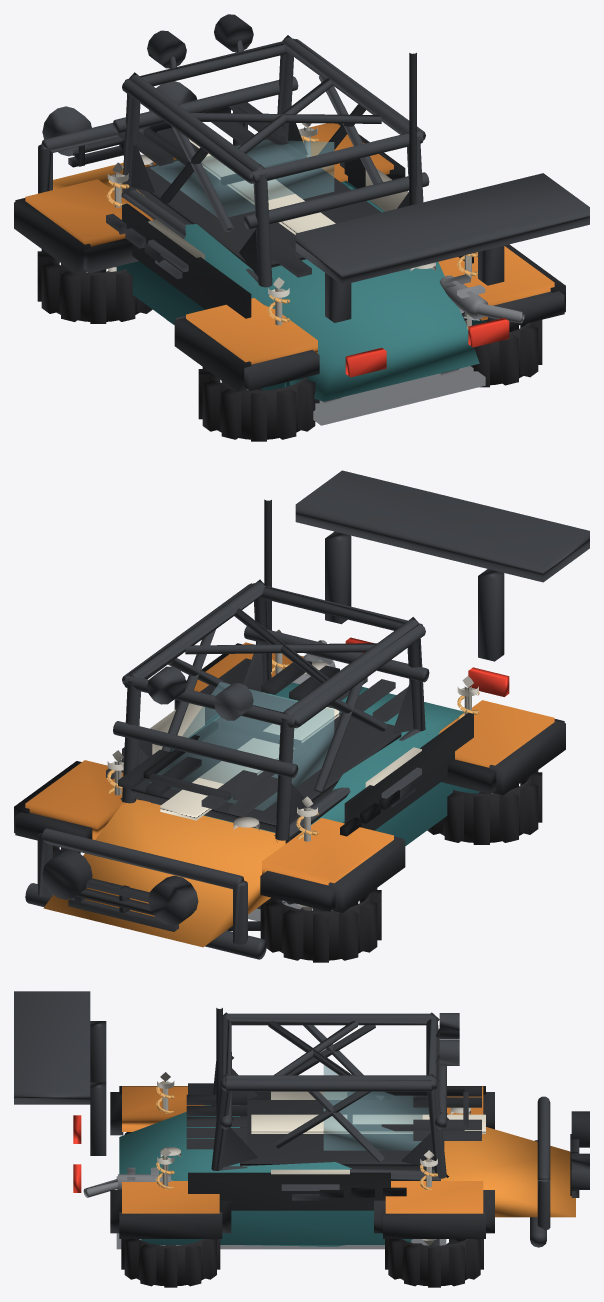
Rendered from rc_buggy.glb.
The picture shows the model from 3 angles, top to bottom: view 1: azimuth 30°, elevation 25°; view 2: azimuth 150°, elevation 25°; view 3: azimuth 270°, elevation 25°; orthographic projection. The views are drawn at different scales.
Visible parts, largest first — view 1: body, wing_panel, wheel_mesh (×3), fender_flares, fender_lips, body_vents, cage_top, top_deck, cage_left, canopy, roll_cage_detail, cage_right (+16 smaller); view 2: wing_panel, nose, body_vents, fender_flares, wheel_mesh (×2), fender_lips, cage_top, top_deck, roll_cage_detail, canopy, cage_left, cage_right (+14 smaller); view 3: body_vents, wing_panel, fender_flares, wheel_mesh (×2), fender_lips, nose, top_deck, side_panel_right, cage_top, cage_right, body, canopy (+15 smaller).
Boxes of the visible parts, x1,y1,x2,y2 form: body: [167, 186, 479, 401]; wing_panel: [295, 173, 589, 284]; wheel_mesh (×3): [37, 249, 542, 441]; fender_flares: [25, 123, 554, 364]; fender_lips: [14, 123, 565, 391]; body_vents: [106, 102, 473, 318]; cage_top: [122, 38, 425, 184]; top_deck: [135, 138, 381, 268]; cage_left: [122, 74, 272, 287]; canopy: [150, 140, 334, 217]; roll_cage_detail: [42, 14, 418, 290]; cage_right: [277, 37, 423, 204]; wing_panel: [295, 470, 589, 582]; nose: [43, 799, 285, 947]; body_vents: [106, 658, 473, 836]; fender_flares: [25, 642, 554, 885]; wheel_mesh (×2): [260, 770, 542, 962]; fender_lips: [14, 643, 565, 912]; cage_top: [122, 583, 425, 728]; top_deck: [131, 691, 401, 832]; roll_cage_detail: [42, 579, 427, 925]; canopy: [150, 682, 334, 810]; cage_left: [275, 619, 425, 843]; cage_right: [122, 582, 271, 803]; body_vents: [186, 1083, 481, 1210]; wing_panel: [14, 991, 90, 1104]; fender_flares: [122, 1086, 483, 1213]; wheel_mesh (×2): [121, 1239, 483, 1287]; fender_lips: [110, 1086, 494, 1238]; nose: [441, 1127, 575, 1217]; top_deck: [240, 1100, 444, 1170]; side_panel_right: [141, 1210, 411, 1244]; cage_top: [220, 1013, 437, 1091]; cage_right: [211, 1075, 446, 1180]; body: [119, 1105, 434, 1246]; canopy: [323, 1065, 428, 1150].
Size of the model in its own units: 0.236 by 0.214 by 0.437.
